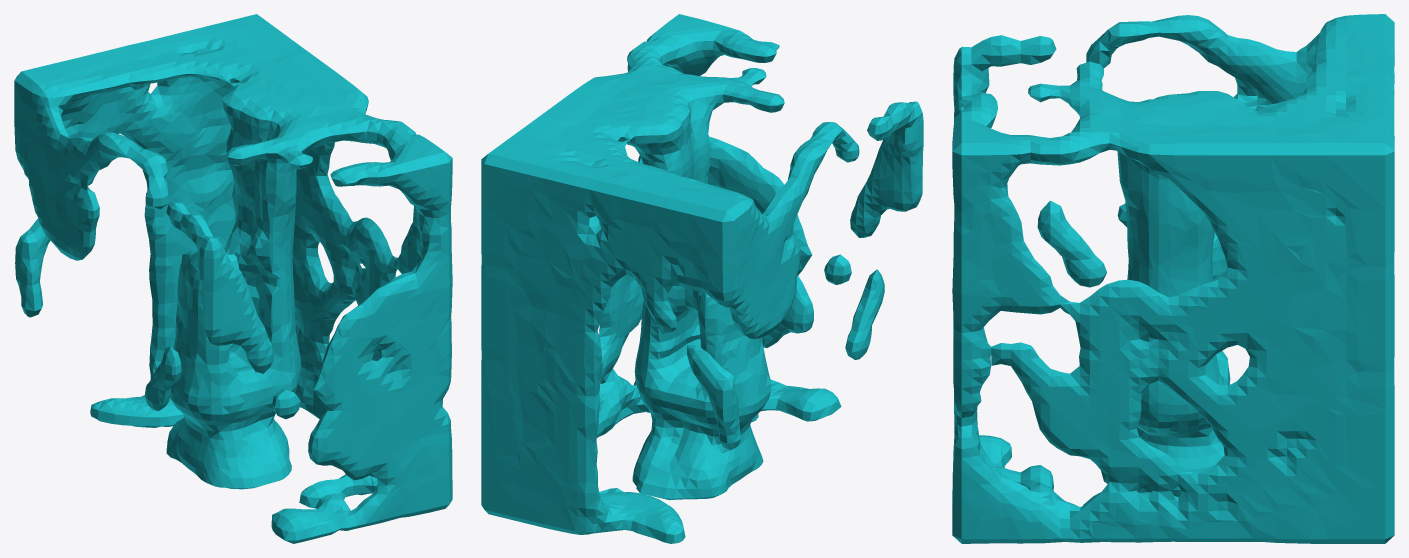
3 renders of one model, left to right at view 1: azimuth 30°, elevation 25°; view 2: azimuth 150°, elevation 25°; view 3: azimuth 270°, elevation 25°, orthographic. The views are drawn at different scales.
Visible parts, largest first — view 1: Liquid_Domain; view 2: Liquid_Domain; view 3: Liquid_Domain.
Part boxes in pixels (<box>): Liquid_Domain: <box>14,14,452,543</box>; Liquid_Domain: <box>481,14,923,543</box>; Liquid_Domain: <box>952,14,1394,543</box>.
Size of the model in its own units: 79.15 by 108 by 108.
